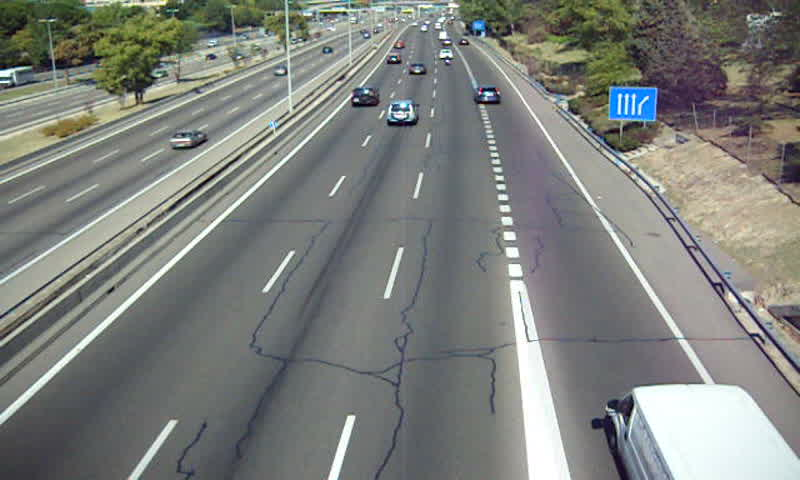car: (385, 100, 420, 125), (350, 86, 381, 108), (474, 84, 503, 105), (407, 62, 428, 77)
